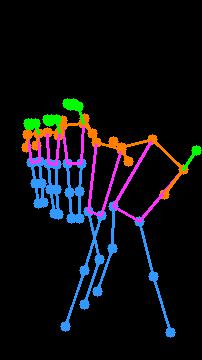normal: (12, 94, 93, 228)
